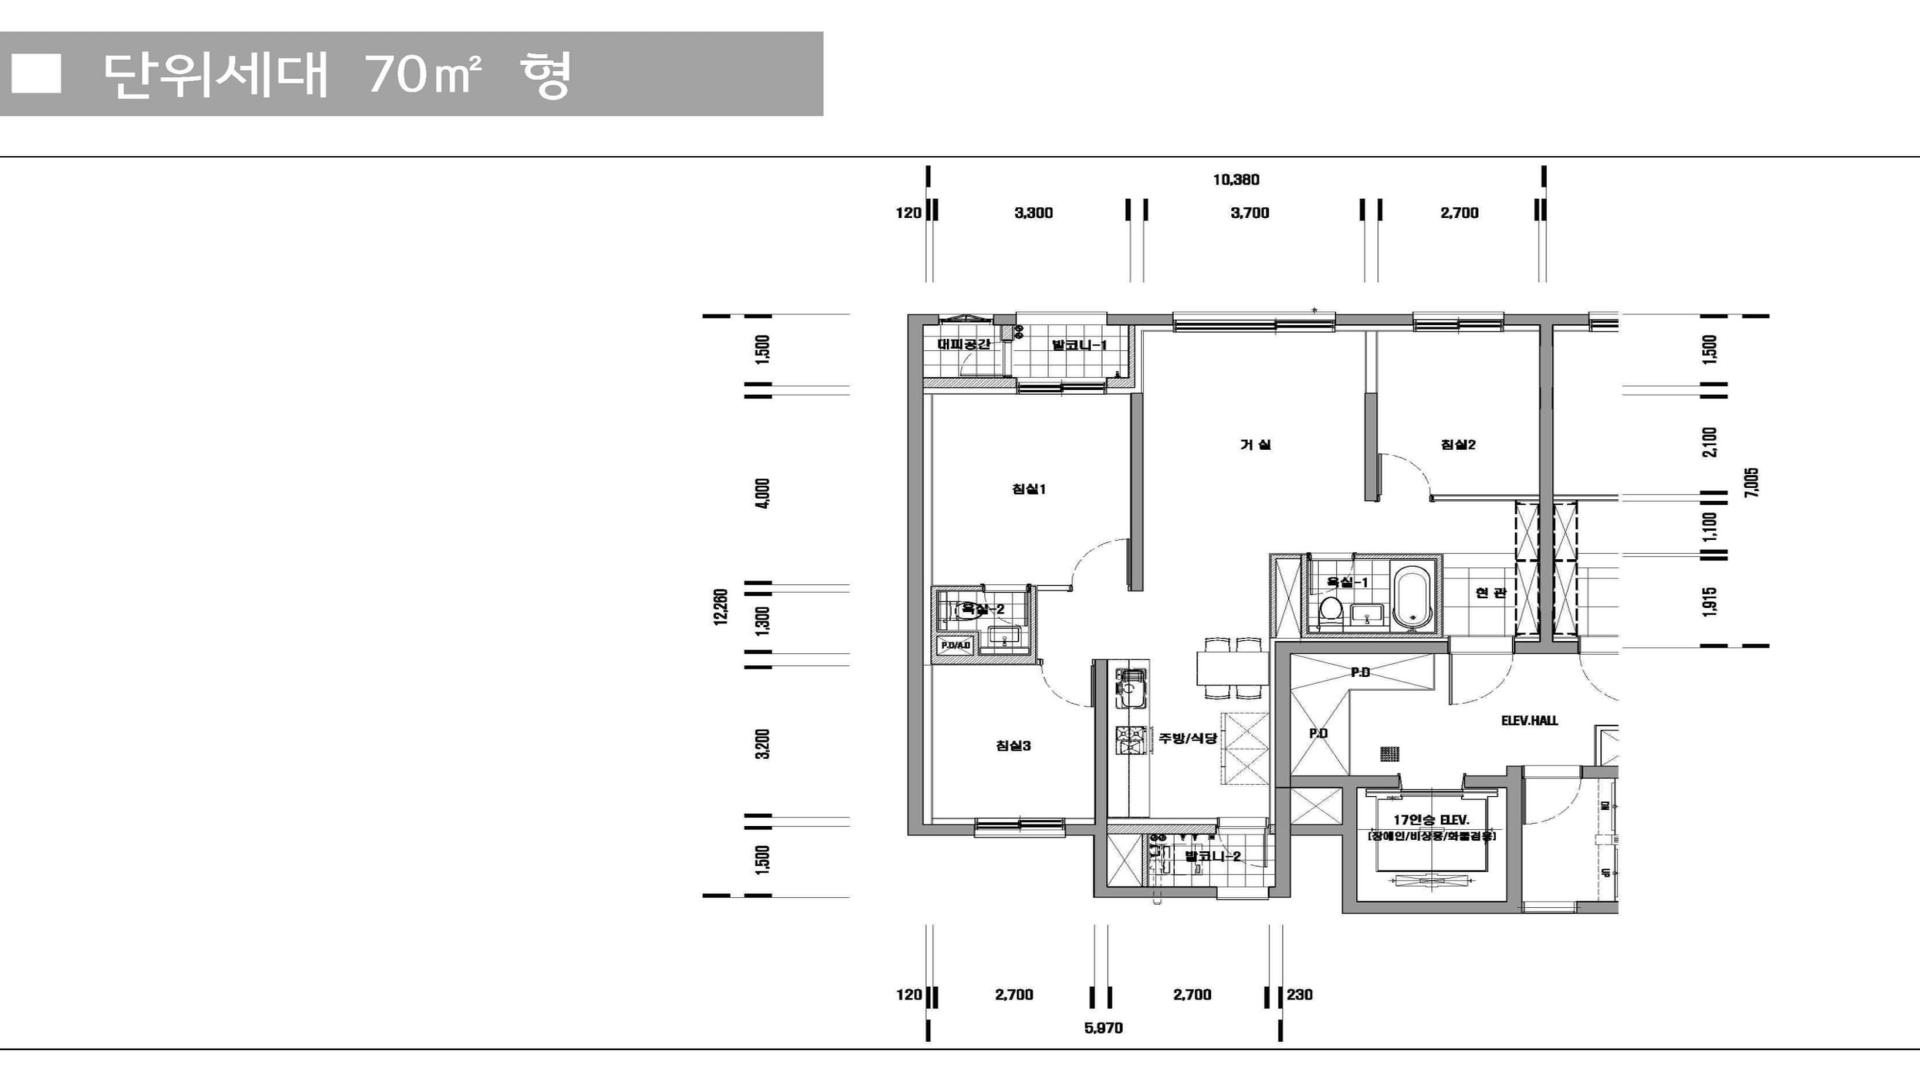door: (1448, 637, 1515, 705), (1522, 765, 1582, 824), (1069, 537, 1131, 591), (1377, 454, 1433, 501), (1217, 818, 1270, 868), (1040, 659, 1095, 708), (982, 584, 1030, 626), (960, 340, 1013, 377), (1308, 553, 1353, 595)
wall: (1269, 641, 1522, 914), (1065, 659, 1216, 898), (907, 314, 975, 836), (1505, 314, 1553, 654), (1269, 554, 1443, 638), (1349, 654, 1435, 775), (931, 585, 1036, 665), (1108, 824, 1217, 886), (1130, 393, 1143, 591), (1365, 331, 1378, 501), (1106, 324, 1135, 388), (923, 377, 1017, 388), (1336, 314, 1414, 326), (1108, 314, 1174, 326), (938, 636, 973, 655), (1433, 496, 1539, 501), (1577, 901, 1618, 914), (1582, 765, 1618, 778), (994, 314, 1017, 324), (1036, 584, 1069, 591), (1001, 324, 1013, 340), (1270, 824, 1275, 835), (1036, 659, 1040, 665)
window: (1174, 311, 1336, 332), (1414, 311, 1505, 332), (975, 818, 1065, 839), (1017, 377, 1106, 394), (1015, 311, 1108, 326), (1216, 886, 1269, 901), (1522, 901, 1577, 914), (938, 314, 994, 326)
